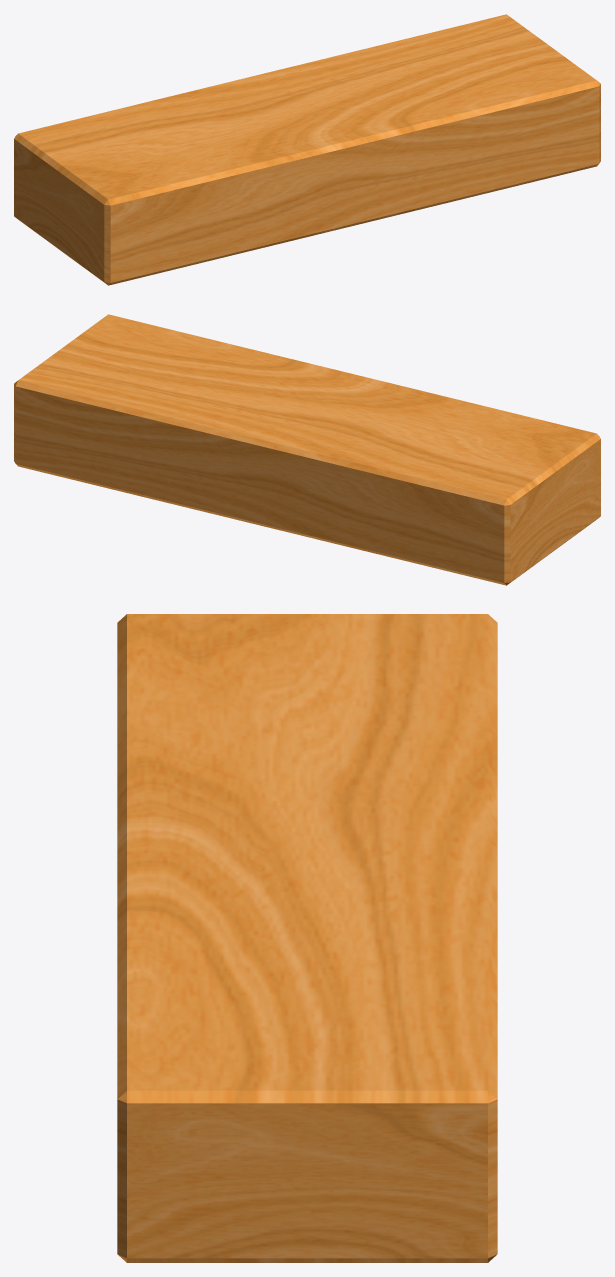
The model's file is WoodenBlock2.fbx.
The picture shows the model from 3 angles, top to bottom: view 1: azimuth 30°, elevation 25°; view 2: azimuth 150°, elevation 25°; view 3: azimuth 270°, elevation 25°; orthographic projection. The views are drawn at different scales.
Parts seen in each view (by area): view 1: WoodenBlock2; view 2: WoodenBlock2; view 3: WoodenBlock2.
Part boxes in pixels (x1,y1,x2,y2): WoodenBlock2: (14,14,600,285); WoodenBlock2: (14,314,600,585); WoodenBlock2: (117,614,497,1262).
Bounding box in the file's own units: 6.04 × 1 × 2.
